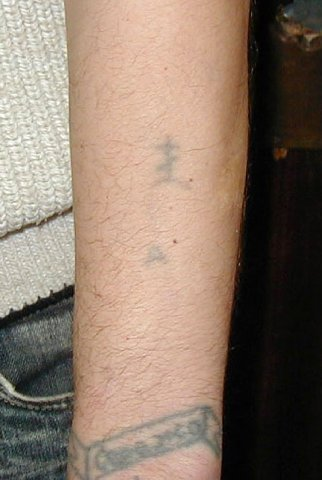tatu9_krest: (146, 130, 195, 195)
